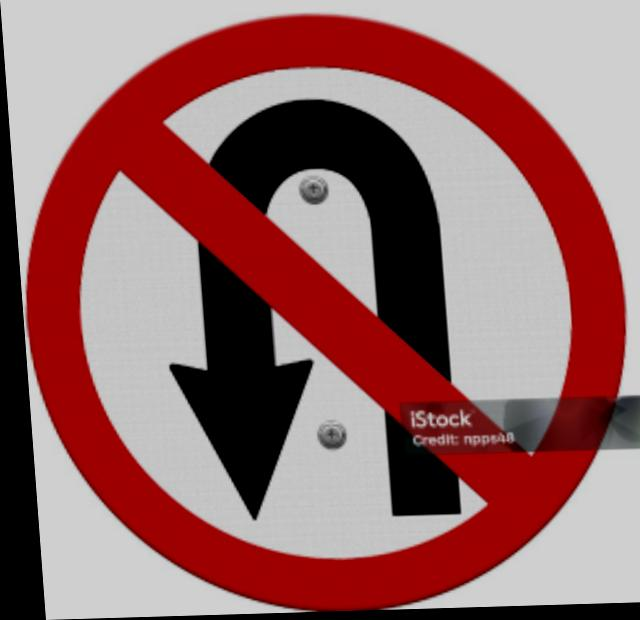not_u_turn_left: (7, 0, 638, 619)
